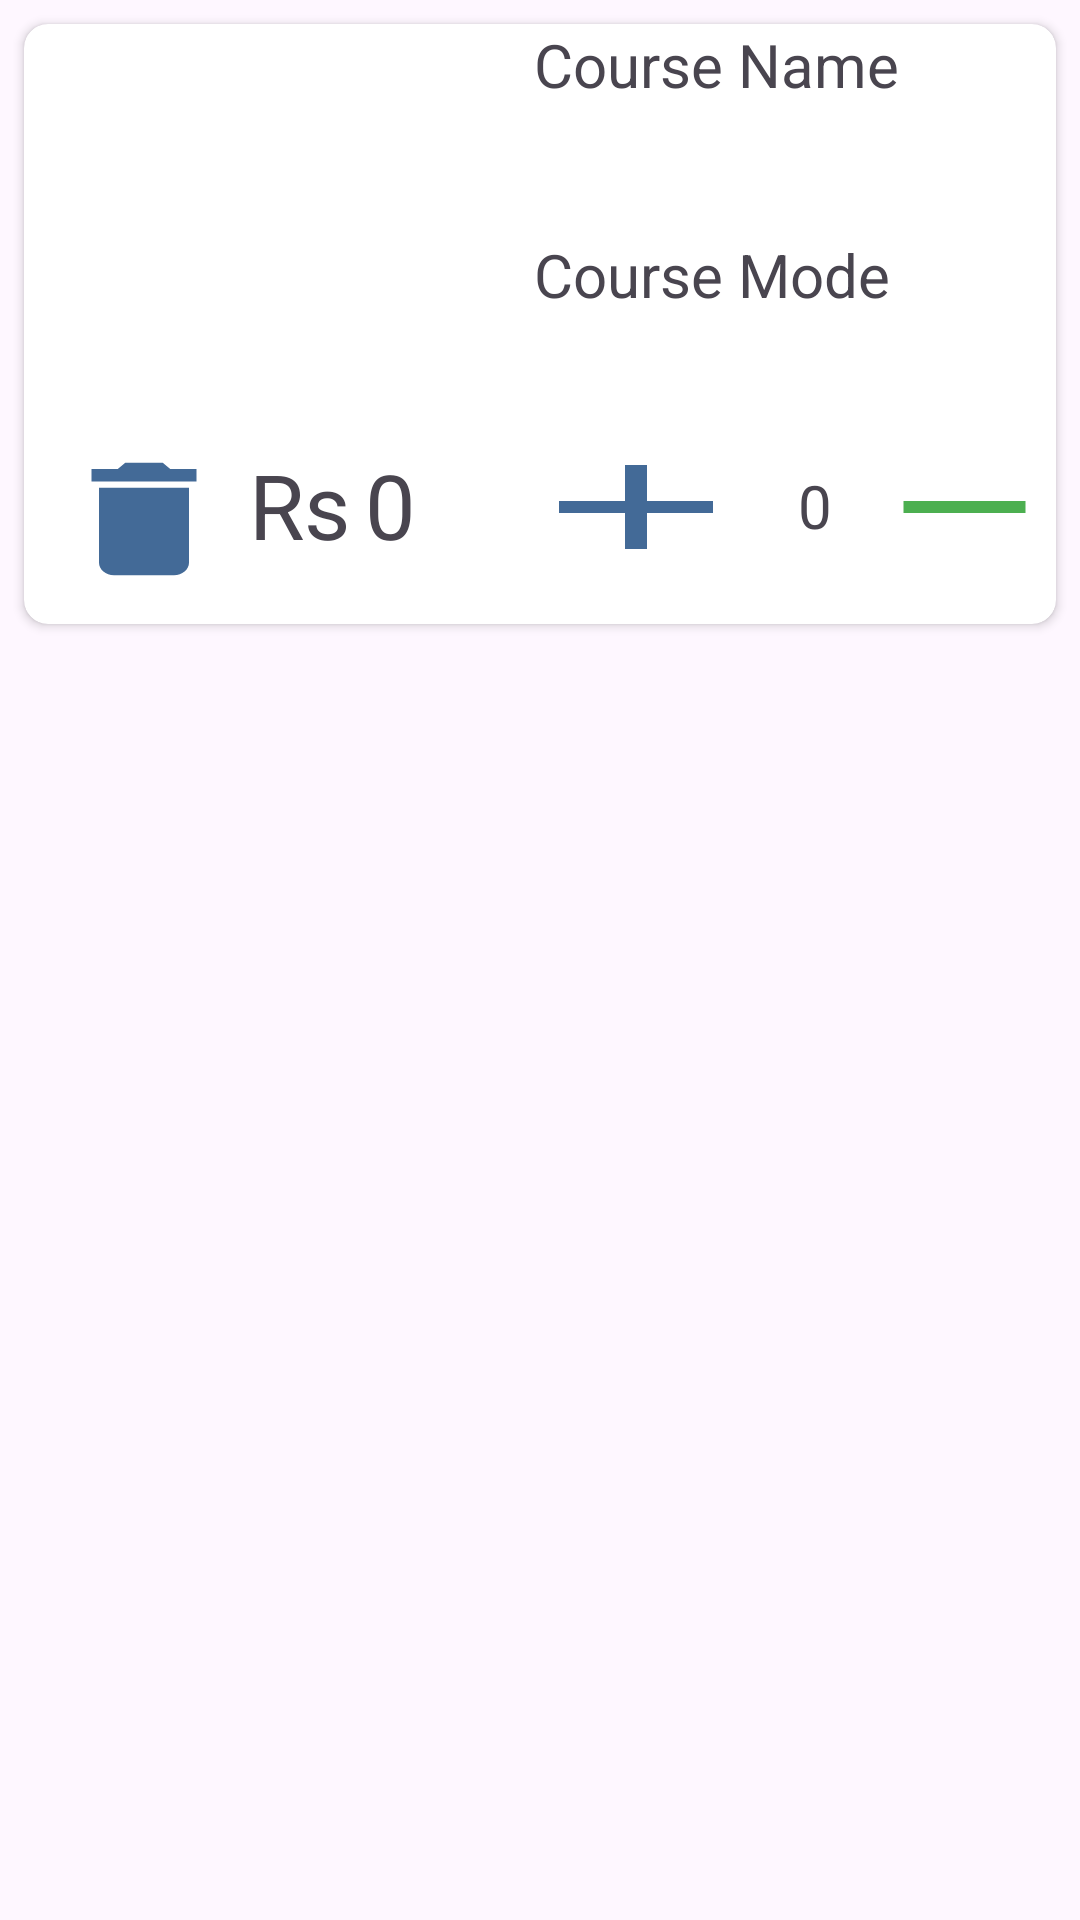

Where icons sit on this 1080×1920 app screen, as (x1, y1, x2, y2):
add: (559, 465, 713, 549)
delete: (91, 462, 197, 576)
